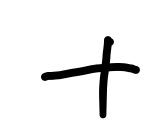mult: (41, 38, 139, 120)
